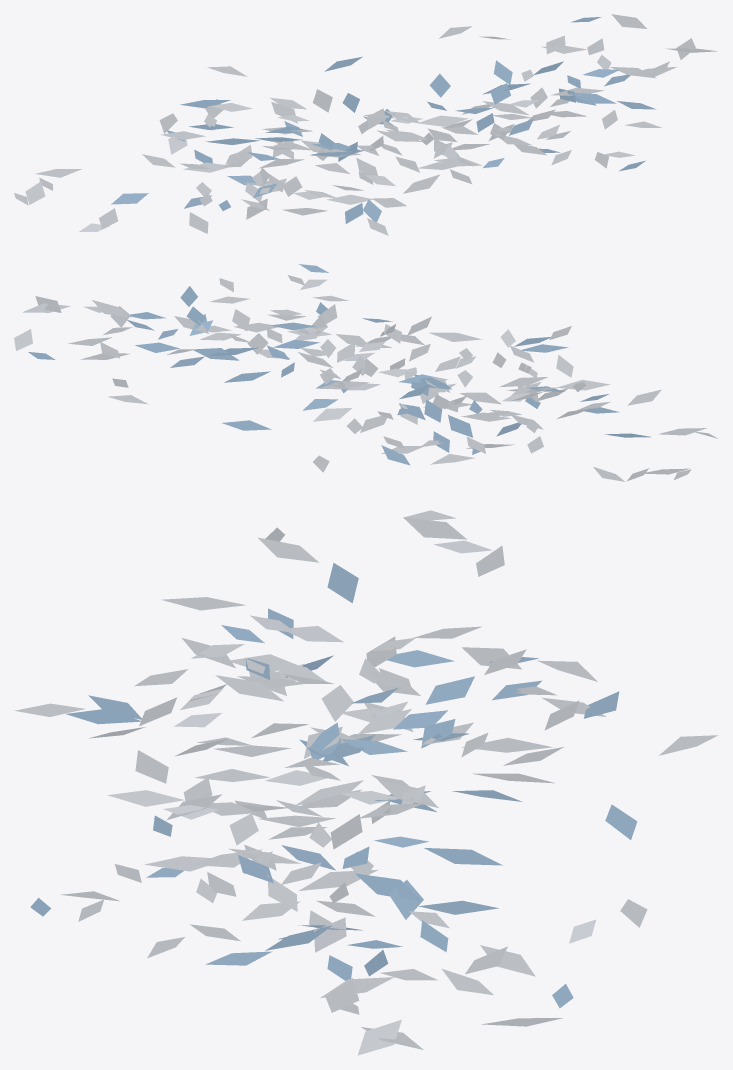
Rendered from petal_drift.glb.
3 views of the same model, one above another, from view 1: azimuth 30°, elevation 25°; view 2: azimuth 150°, elevation 25°; view 3: azimuth 270°, elevation 25° (orthographic). The views are drawn at different scales.
Parts seen in each view (by area): view 1: Petal_Drift; view 2: Petal_Drift; view 3: Petal_Drift.
Part boxes in pixels (x1,y1,x2,y2): Petal_Drift: (14,14,716,235); Petal_Drift: (14,264,717,481); Petal_Drift: (14,510,718,1055).
Size of the model in its own units: 4.96 by 0.03 by 2.73.
